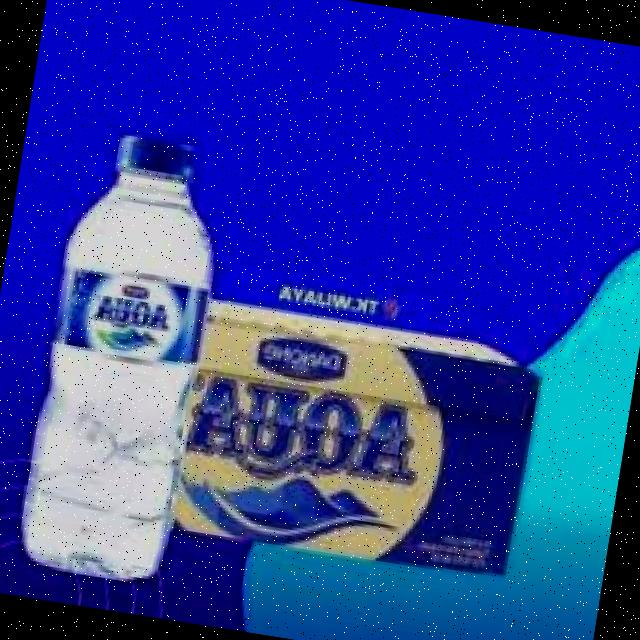bottle: (0, 88, 265, 619)
label: (52, 262, 218, 374)
